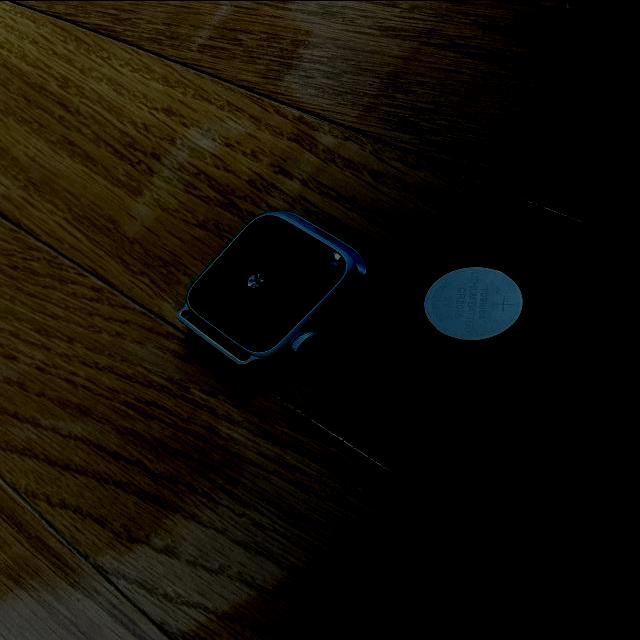COIN: (424, 266, 524, 340)
